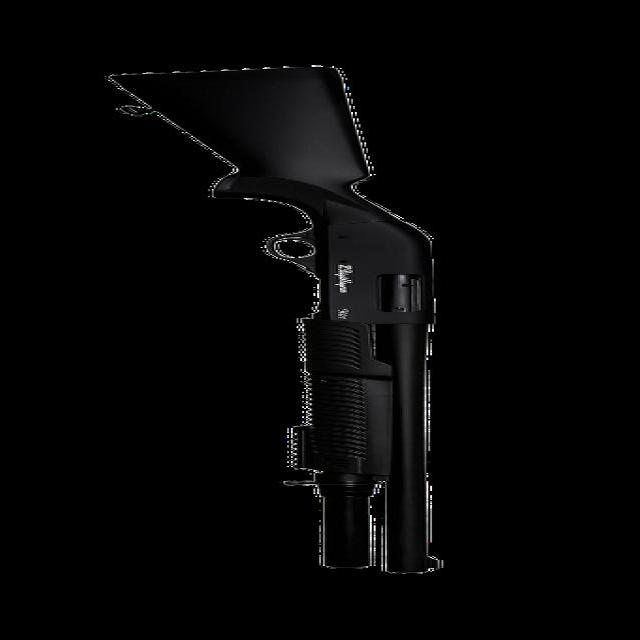shotgun: (85, 53, 496, 577)
